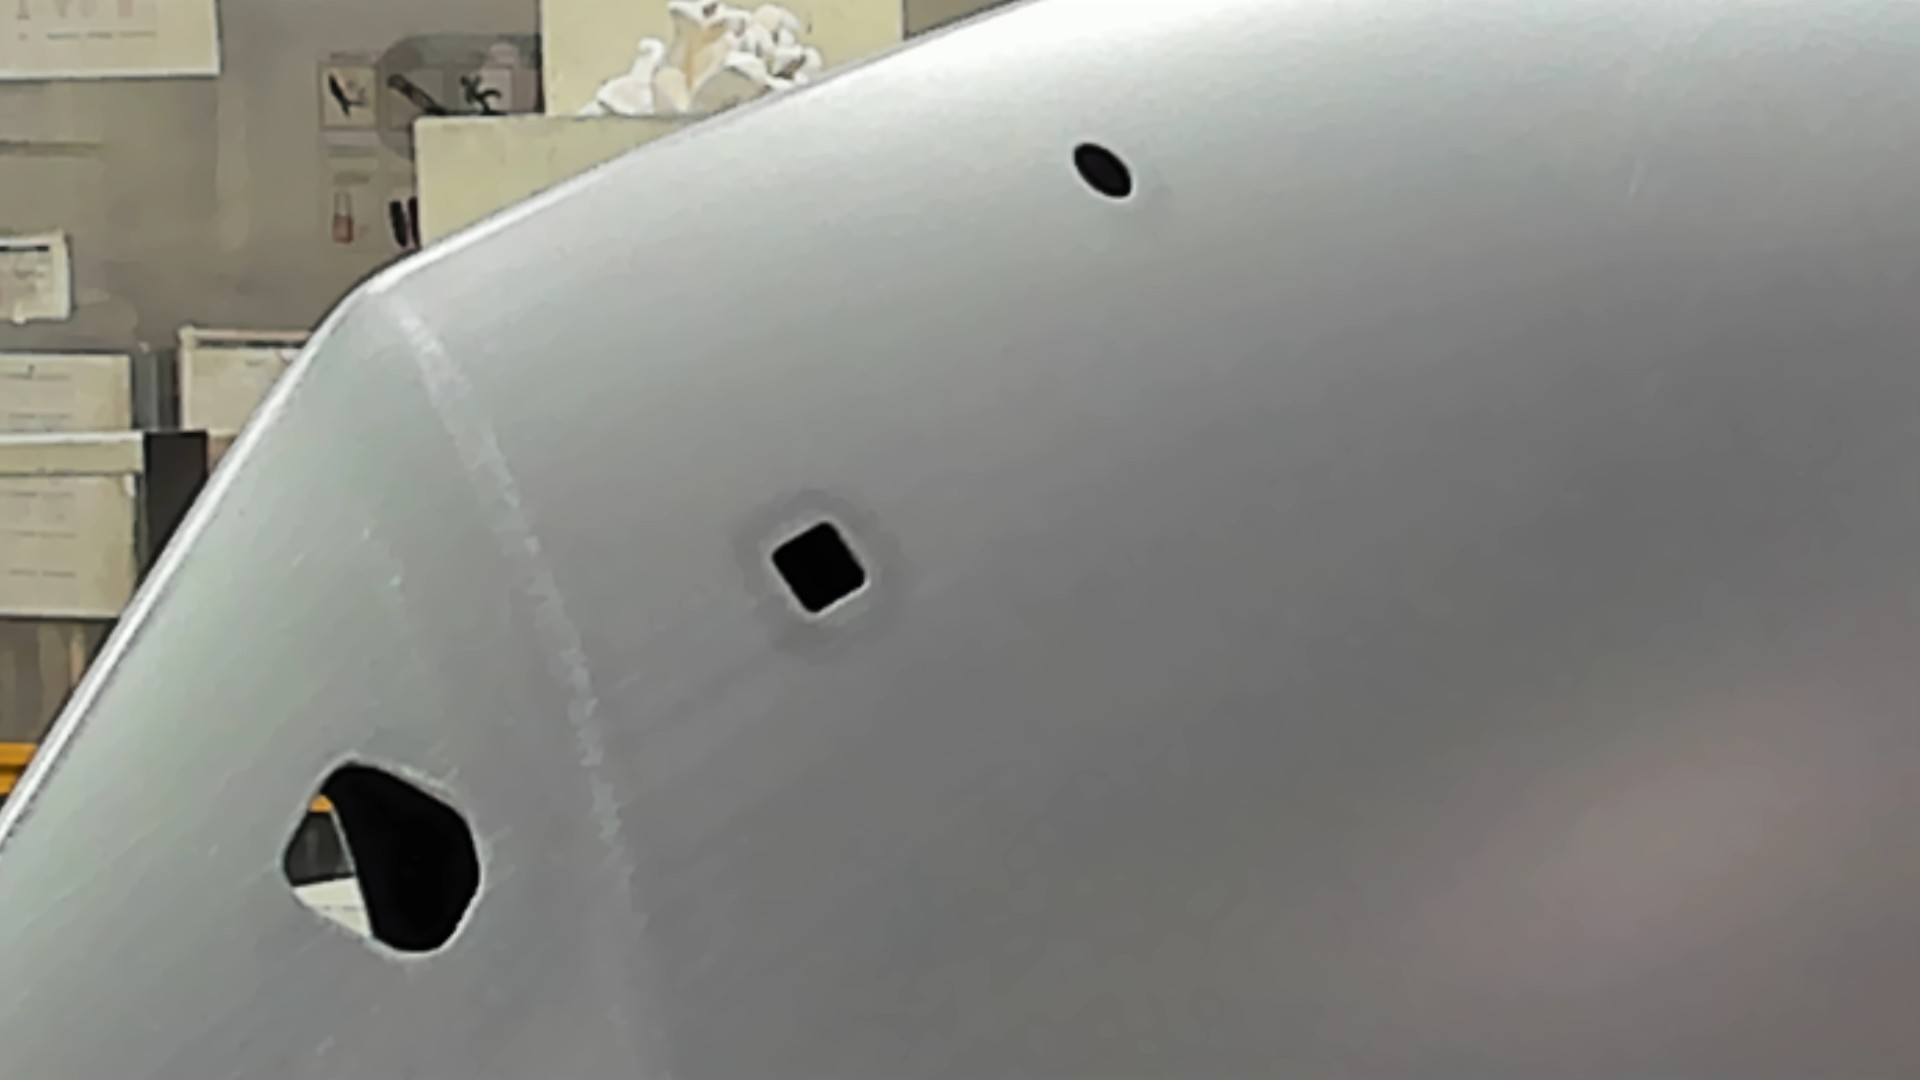chico: (1069, 138, 1135, 200)
grande: (269, 752, 487, 964)
mediano: (769, 512, 878, 620)
